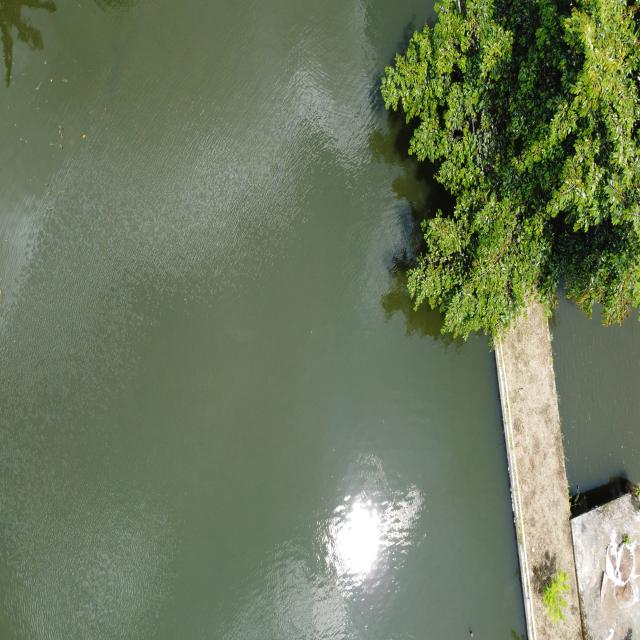Ponds: (1, 1, 565, 640), (527, 294, 639, 548)
